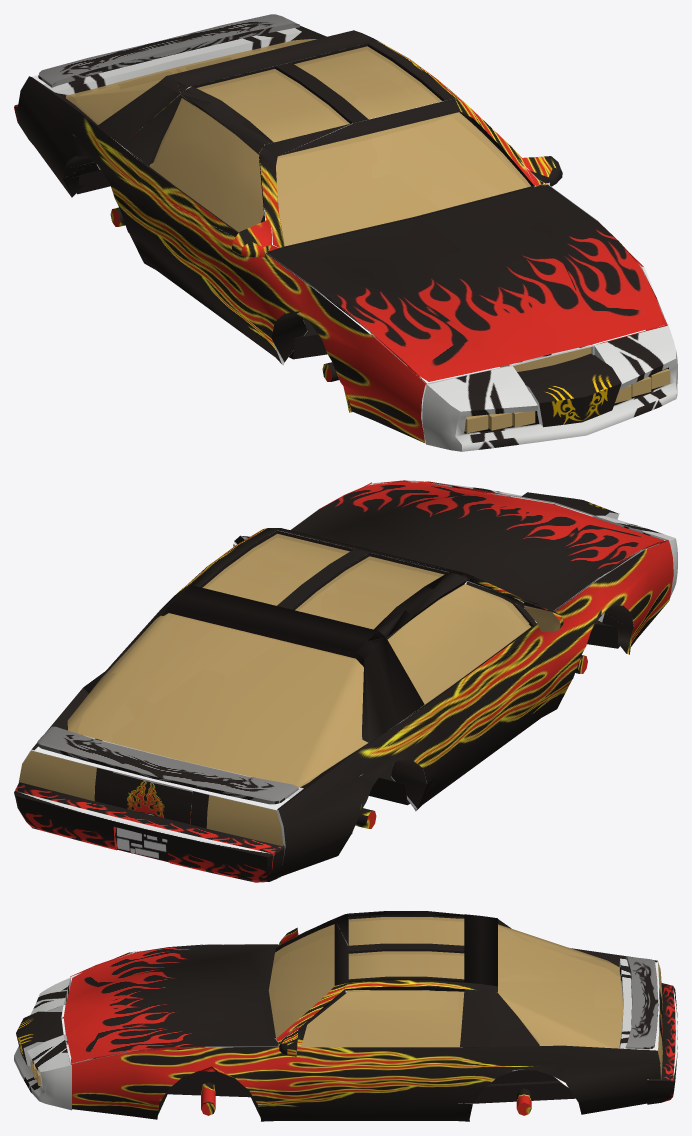
The model's file is kitt.obj.
3 renders of one model, top to bottom at view 1: azimuth 30°, elevation 25°; view 2: azimuth 150°, elevation 25°; view 3: azimuth 270°, elevation 25°, orthographic. The views are drawn at different scales.
Visible parts, largest first — view 1: Box01, Box01.001, Box25, Box12, Box11, Box16, Box06, Box01.002, Box38, Box14; view 2: Box25, Box01, Box01.001, Box13, Box16, Box21, Box28, Box38, Box06, Box01.002, Box26, Box32 (+2 smaller); view 3: Box01.002, Box25, Box01.001, Box01, Box12, Box38, Box16, Box13, Box11, Box06, Box40, Box41 (+2 smaller).
Boxes of the visible parts, bbox=[...] form: Box01: bbox=[17, 30, 667, 443]; Box01.001: bbox=[266, 184, 661, 381]; Box25: bbox=[65, 39, 530, 246]; Box12: bbox=[422, 324, 677, 451]; Box11: bbox=[517, 353, 621, 427]; Box16: bbox=[38, 14, 299, 87]; Box06: bbox=[31, 28, 301, 94]; Box01.002: bbox=[291, 25, 656, 299]; Box38: bbox=[77, 165, 327, 359]; Box14: bbox=[513, 344, 591, 371]; Box25: bbox=[67, 533, 530, 787]; Box01: bbox=[24, 480, 673, 878]; Box01.001: bbox=[290, 482, 663, 610]; Box13: bbox=[14, 782, 284, 882]; Box16: bbox=[37, 726, 298, 804]; Box21: bbox=[19, 751, 283, 846]; Box28: bbox=[110, 772, 192, 824]; Box38: bbox=[369, 614, 619, 805]; Box06: bbox=[32, 735, 303, 810]; Box01.002: bbox=[32, 480, 404, 750]; Box26: bbox=[94, 768, 208, 828]; Box32: bbox=[117, 827, 168, 861]; Box01.002: bbox=[71, 980, 660, 1121]; Box25: bbox=[268, 917, 623, 1048]; Box01.001: bbox=[63, 944, 278, 1062]; Box01: bbox=[61, 911, 660, 1120]; Box12: bbox=[14, 977, 71, 1110]; Box38: bbox=[158, 1081, 575, 1116]; Box16: bbox=[625, 956, 658, 1049]; Box13: bbox=[647, 983, 677, 1104]; Box11: bbox=[16, 1011, 68, 1066]; Box06: bbox=[619, 958, 659, 1050]; Box40: bbox=[174, 1071, 241, 1084]; Box41: bbox=[463, 1047, 558, 1084].
Size of the model in its own units: 15.27 by 7.68 by 35.89.
